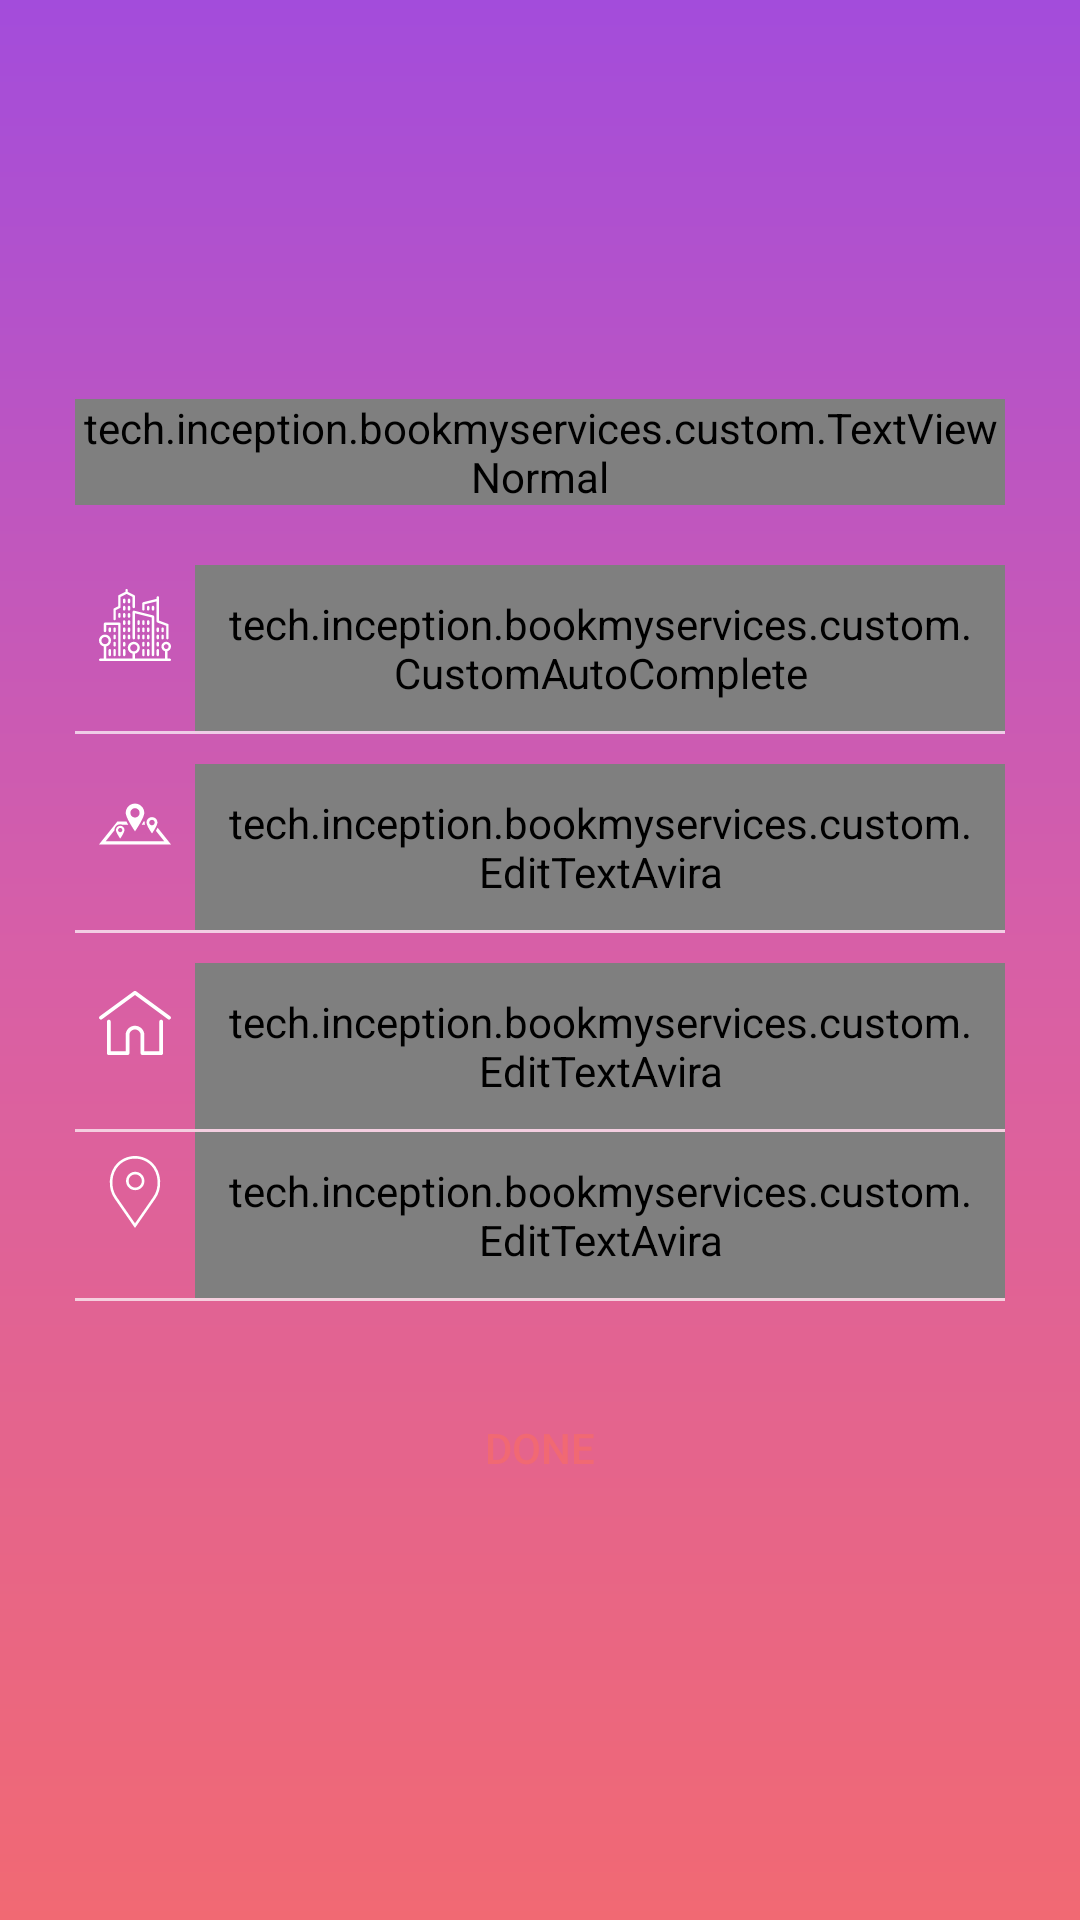

Icon click points for this 1080w x 1920h phone screenshot, format (x=x, y=y):
location: (x=135, y=1192)
